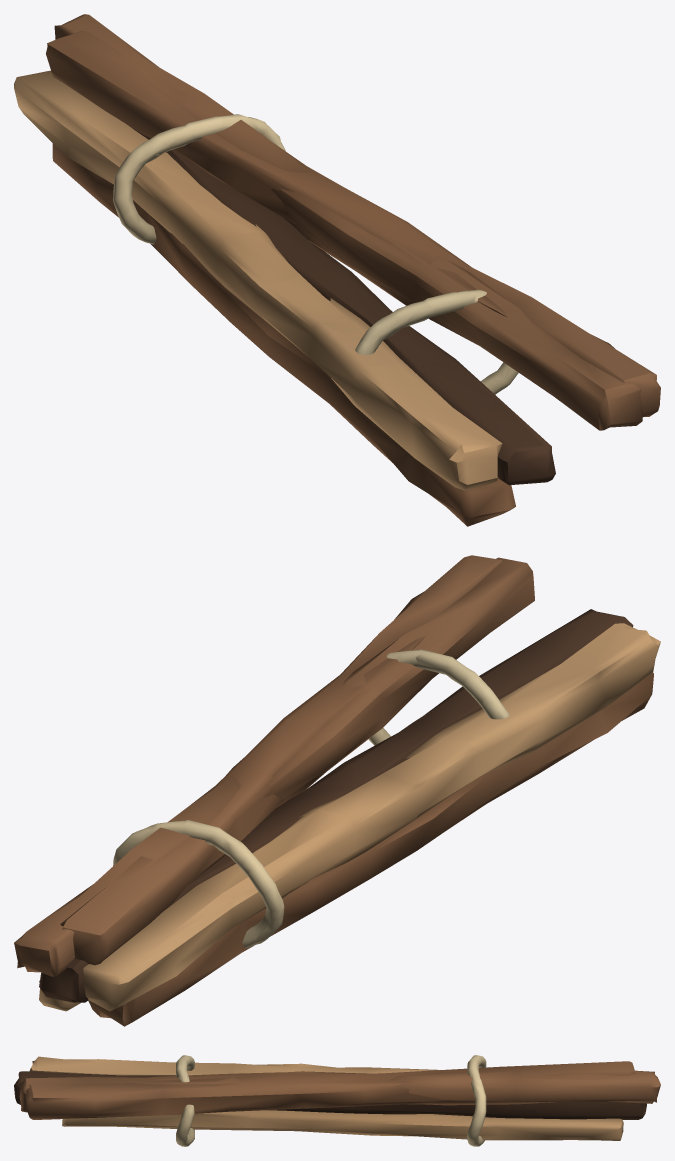
Rendered from ember_kindling_b.glb.
3 renders of one model, top to bottom at view 1: azimuth 30°, elevation 25°; view 2: azimuth 150°, elevation 25°; view 3: azimuth 270°, elevation 25°, orthographic. The views are drawn at different scales.
Visible parts, largest first — view 1: ember_kindling_b; view 2: ember_kindling_b; view 3: ember_kindling_b.
Part boxes in pixels (x1,y1,x2,y2): ember_kindling_b: [14, 14, 660, 526]; ember_kindling_b: [14, 555, 660, 1026]; ember_kindling_b: [14, 1055, 660, 1146].
Bounding box in the file's own units: 4.99 × 2.85 × 22.2.
